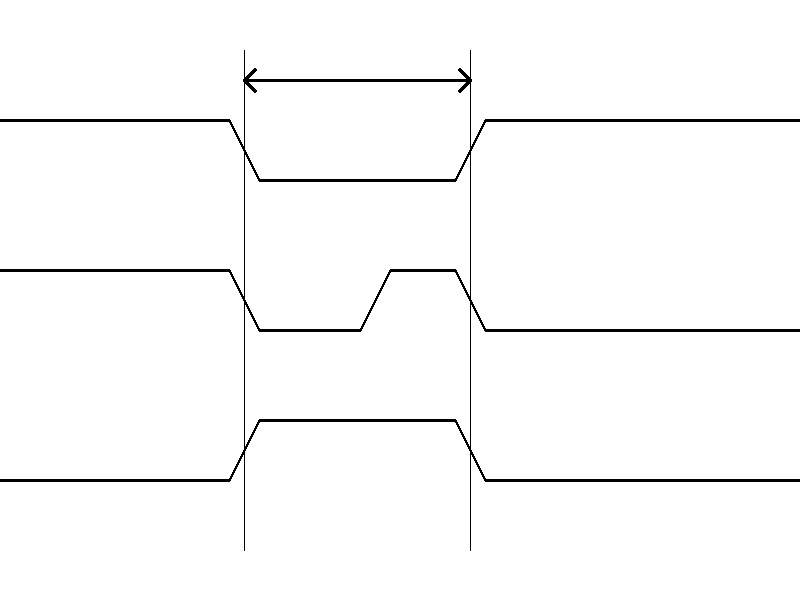double_arrow: (244, 65, 470, 95)
